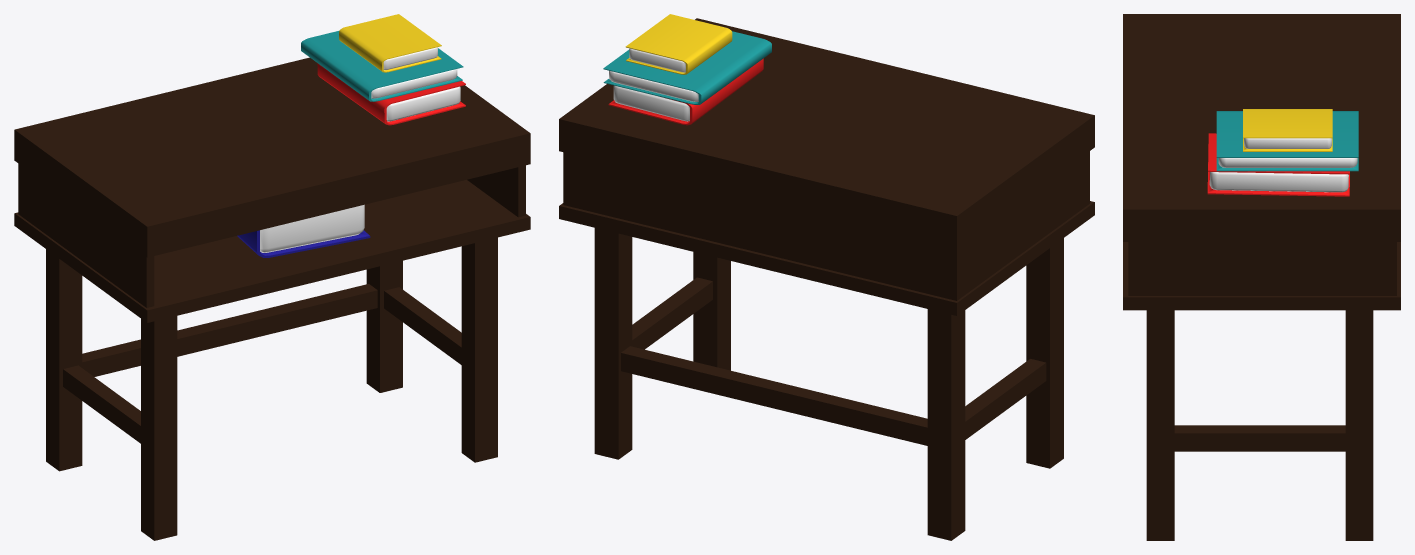
The picture shows the model from 3 angles, left to right: view 1: azimuth 30°, elevation 25°; view 2: azimuth 150°, elevation 25°; view 3: azimuth 270°, elevation 25°; orthographic projection. The views are drawn at different scales.
Parts seen in each view (by area): view 1: Box001, Box003, C-Ext001, Box002, Box006, Box004, Box007, ChamferBox005, Box005, ChamferBox008, ChamferBox004, ChamferBox003 (+2 smaller); view 2: Box001, C-Ext001, Box004, Box007, Box005, Box003, Box002, ChamferBox005, ChamferBox008, Box006, ChamferBox003, Box008 (+1 smaller); view 3: Box001, C-Ext001, Box005, Box006, ChamferBox005, Box003, Box009, ChamferBox003, ChamferBox008.
Part boxes in pixels (box(x1,y1,x2,y2)): Box001: box(14, 57, 530, 257); Box003: box(14, 180, 530, 322); C-Ext001: box(18, 163, 525, 307); Box002: box(141, 316, 177, 540); Box006: box(461, 237, 497, 462); Box004: box(46, 249, 82, 471); Box007: box(82, 284, 377, 376); ChamferBox005: box(301, 31, 463, 101); Box005: box(366, 260, 402, 392); ChamferBox008: box(339, 14, 441, 72); ChamferBox004: box(237, 204, 370, 257); ChamferBox003: box(317, 63, 465, 125); Box001: box(559, 18, 1094, 248); C-Ext001: box(563, 151, 1089, 300); Box004: box(927, 309, 965, 540); Box007: box(621, 346, 927, 445); Box005: box(594, 228, 632, 459); Box003: box(559, 201, 1094, 315); Box002: box(1026, 238, 1063, 468); ChamferBox005: box(603, 31, 771, 104); ChamferBox008: box(625, 14, 732, 74); Box006: box(693, 252, 730, 370); ChamferBox003: box(608, 58, 763, 125); Box008: box(965, 359, 1046, 439); Box001: box(1123, 14, 1400, 241); C-Ext001: box(1128, 242, 1396, 295); Box005: box(1345, 310, 1373, 540); Box006: box(1146, 310, 1174, 540); ChamferBox005: box(1216, 111, 1358, 171); Box003: box(1123, 242, 1400, 310); Box009: box(1174, 425, 1345, 451); ChamferBox003: box(1207, 133, 1349, 196); ChamferBox008: box(1243, 109, 1332, 151).
Bounding box in the file's own units: 50 × 47.44 × 30.
5 materials, 4 textured.
